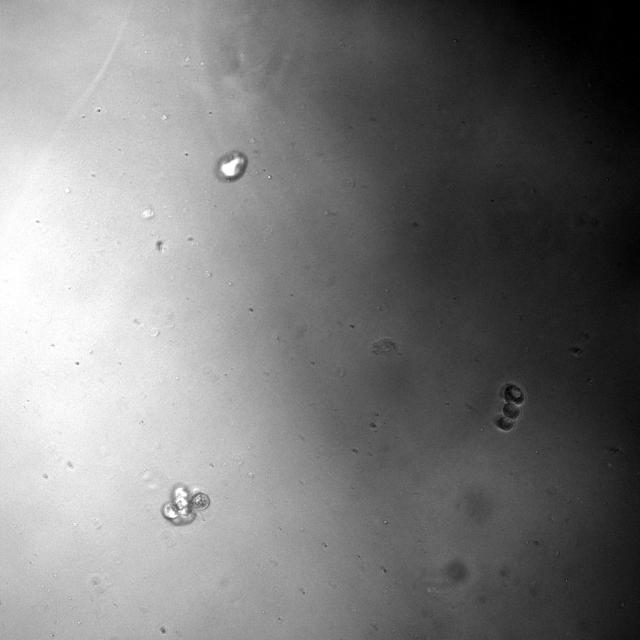organoid: (161, 483, 210, 525), (491, 382, 526, 432), (216, 150, 248, 182)
